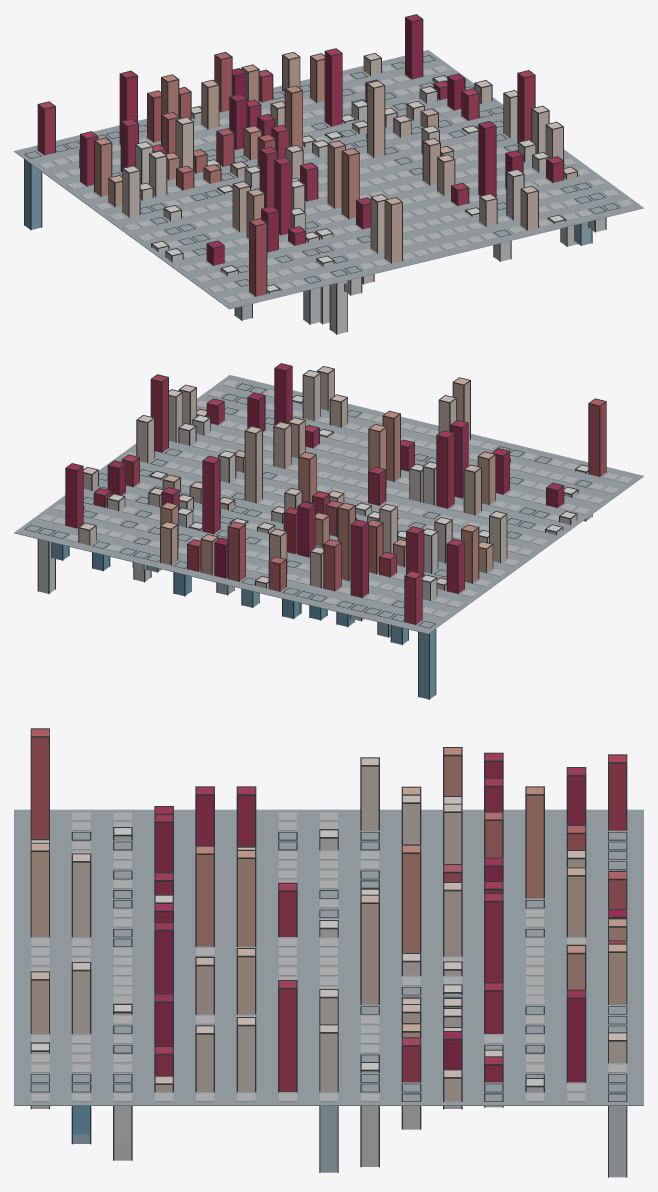
The model's file is kilim_v2.glb.
3 views of the same model, one above another, from view 1: azimuth 30°, elevation 25°; view 2: azimuth 150°, elevation 25°; view 3: azimuth 270°, elevation 25° (orthographic). The views are drawn at different scales.
Parts seen in each view (by area): view 1: world; view 2: world; view 3: world.
Part boxes in pixels (box(x1,y1,x2,y2)): world: box(14, 14, 643, 334); world: box(14, 363, 643, 699); world: box(14, 728, 643, 1177).
Bounding box in the file's own units: 0.5083 × 0.1671 × 0.4583.
